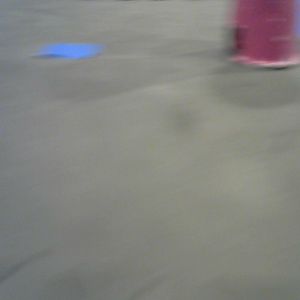right: (230, 1, 300, 70)
